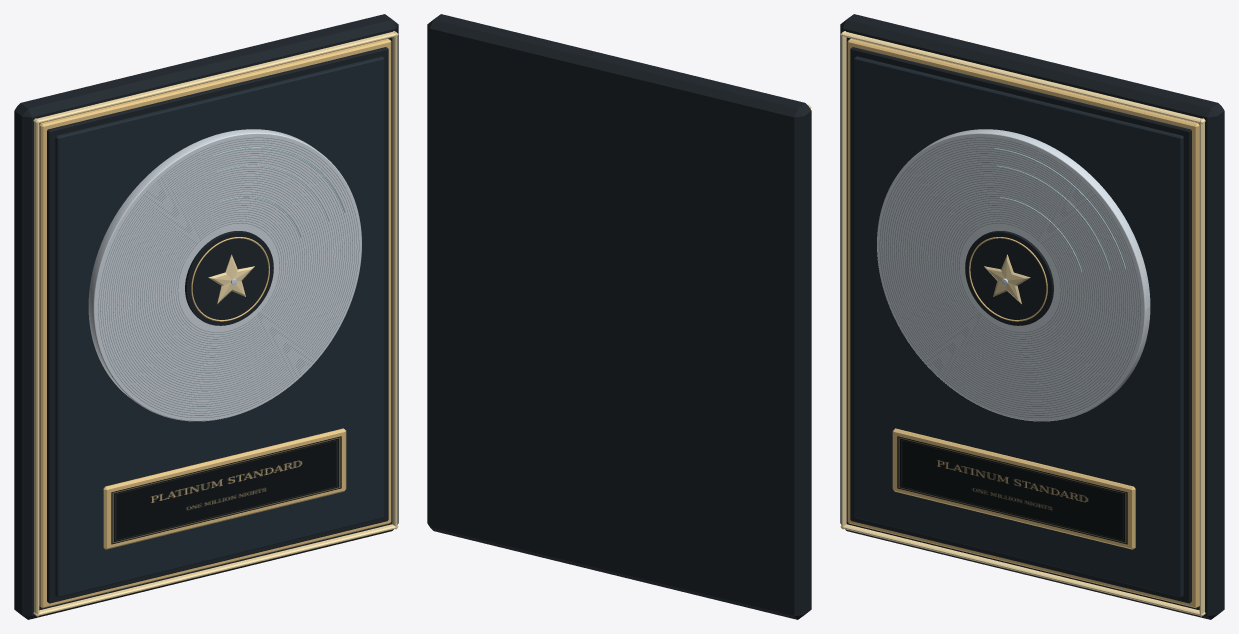
The model's file is platinum-record.glb.
3 renders of one model, left to right at view 1: azimuth 30°, elevation 25°; view 2: azimuth 150°, elevation 25°; view 3: azimuth 330°, elevation 25°, orthographic.
Visible parts, largest first — view 1: Platinum Standard; view 2: Platinum Standard; view 3: Platinum Standard.
Part boxes in pixels (bbox=[...]): Platinum Standard: bbox=[14, 14, 398, 619]; Platinum Standard: bbox=[427, 14, 811, 619]; Platinum Standard: bbox=[840, 14, 1224, 619].
Bounding box in the file's own units: 0.37 × 0.48 × 0.0605.
Materials: 8 (1 with a texture image).
